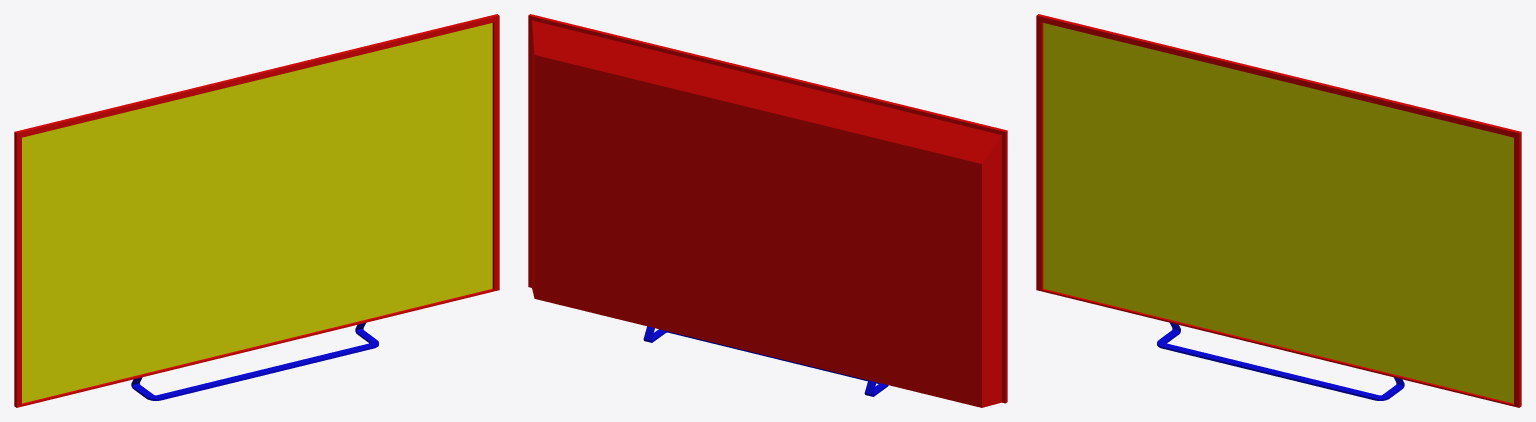
3 renders of one model, left to right at view 1: azimuth 30°, elevation 25°; view 2: azimuth 150°, elevation 25°; view 3: azimuth 330°, elevation 25°, orthographic.
Parts seen in each view (by area): view 1: pCube5; view 2: pCube5; view 3: pCube5.
Boxes of the visible parts, bbox=[...] form: pCube5: bbox=[14, 14, 499, 407]; pCube5: bbox=[528, 14, 1007, 407]; pCube5: bbox=[1036, 14, 1521, 407].
Bounding box in the file's own units: 182 × 105 × 13.46.
